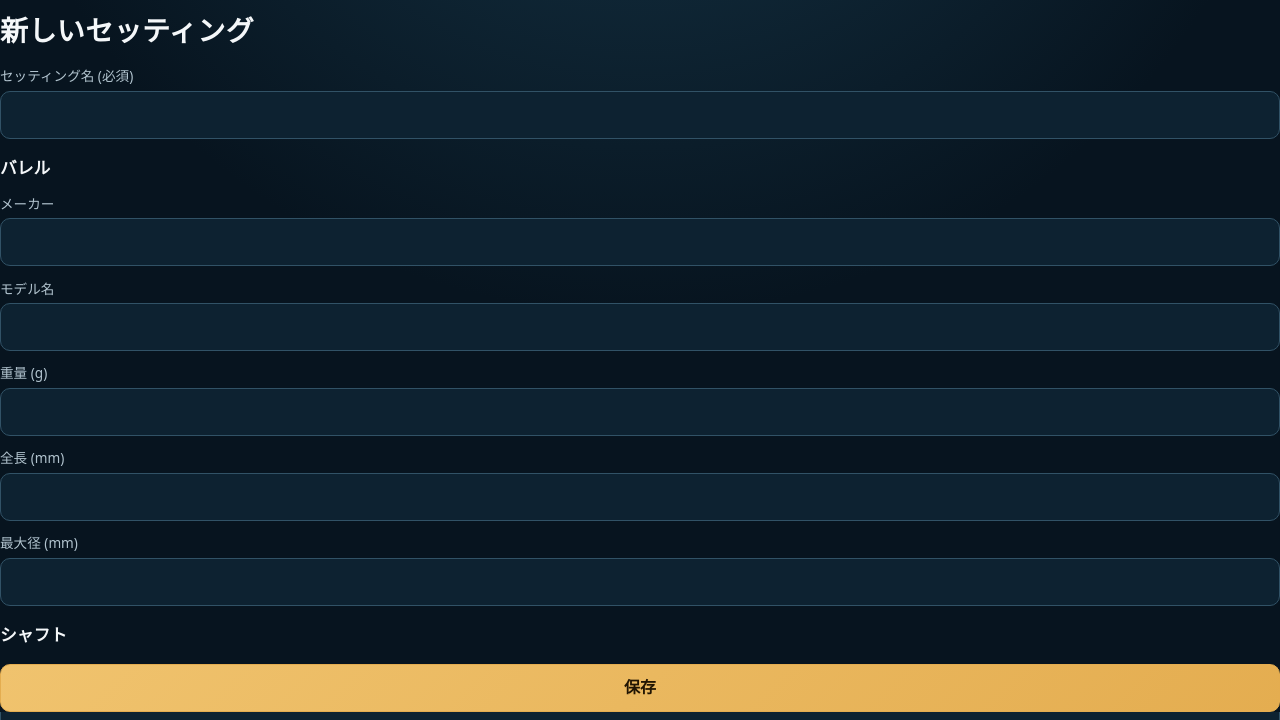
EquipmentEditPage (セッティング保存) › 全項目入りで保存でき、数値項目が数値として永続化される
Step 1. Type "フルスペック" into the field labelled "セッティング名 (必須)" → (640, 114), box [0, 90, 1279, 138]
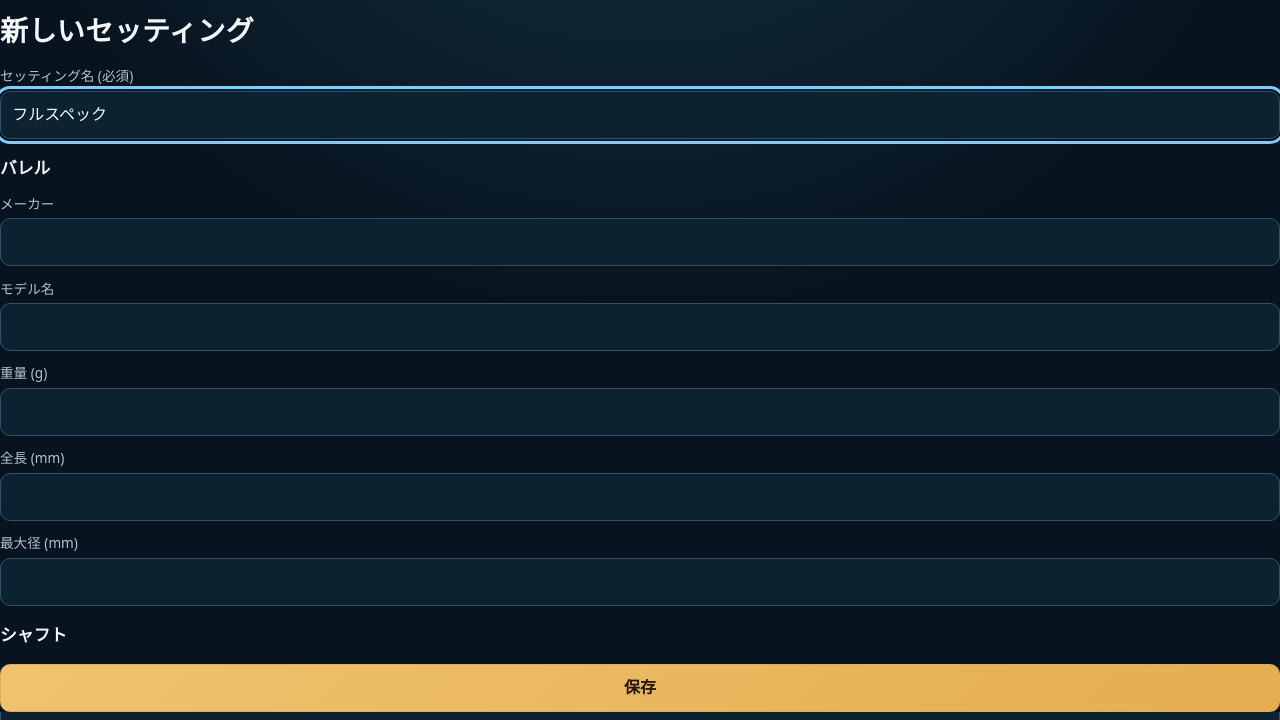
Step 2. Type "19.5" into the number field labelled "重量 (g)" → (640, 412), box [0, 388, 1279, 436]
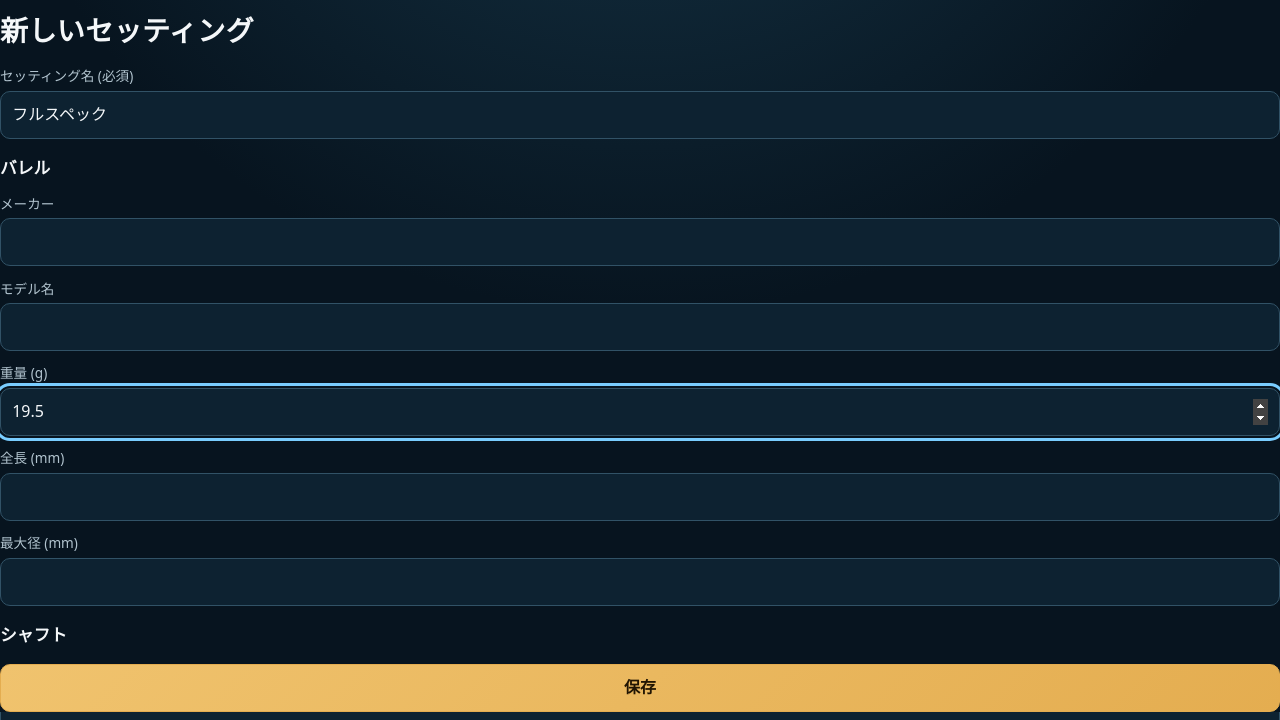
Step 3. Click the button "保存" → (640, 688), box [0, 664, 1279, 712]
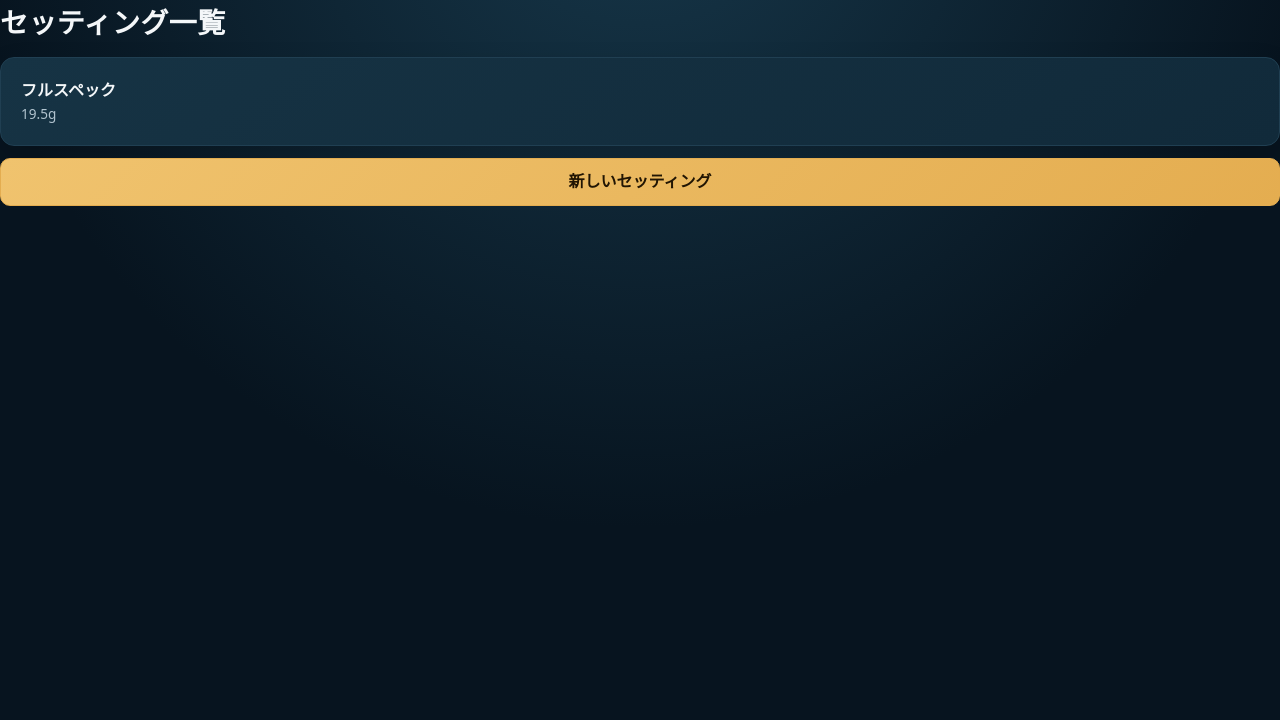
Expected: the text "フルスペック" is shown, [21, 79, 116, 101]
